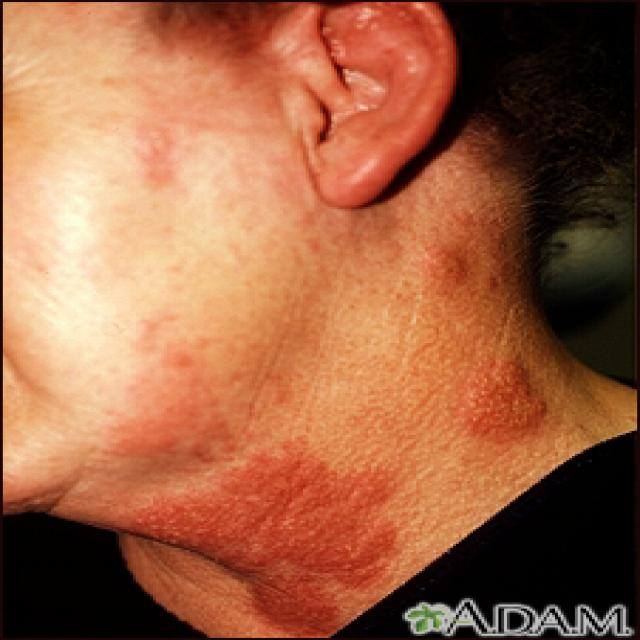herpes zoster: (85, 418, 434, 629), (437, 353, 555, 445)
